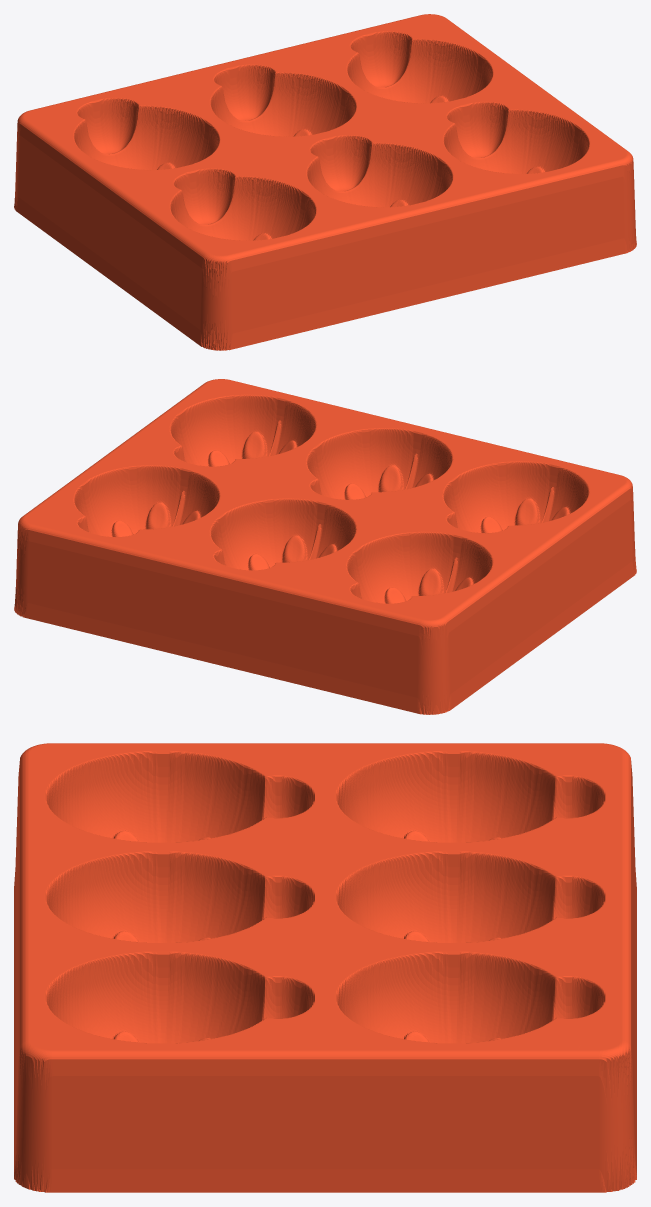
The model's file is mold.glb.
3 renders of one model, top to bottom at view 1: azimuth 30°, elevation 25°; view 2: azimuth 150°, elevation 25°; view 3: azimuth 270°, elevation 25°, orthographic. The views are drawn at different scales.
Visible parts, largest first — view 1: geometry_0; view 2: geometry_0; view 3: geometry_0.
Part boxes in pixels (x1,y1,x2,y2): geometry_0: (14,14,636,350); geometry_0: (14,379,636,714); geometry_0: (14,743,636,1192).
Size of the model in its own units: 0.1807 by 0.036 by 0.1492.
